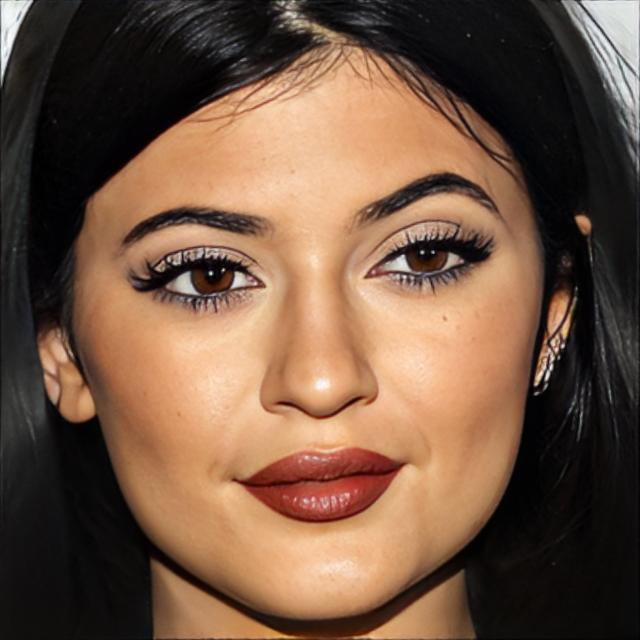content: (73, 31, 543, 622)
